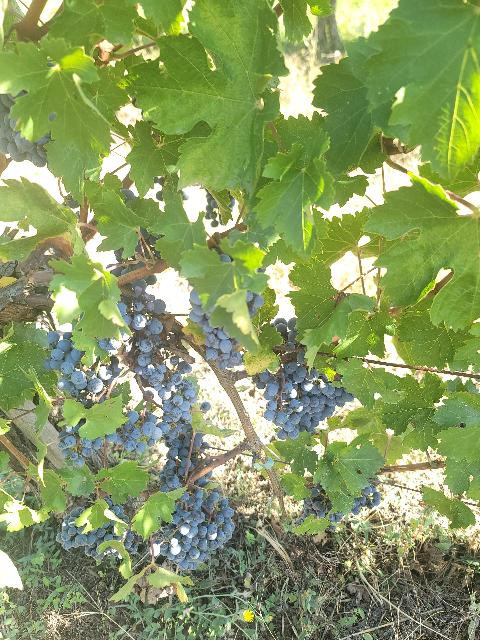grapes: (252, 318, 354, 440), (159, 488, 235, 570), (44, 331, 119, 405), (135, 355, 196, 440), (129, 280, 165, 379), (118, 302, 130, 322)
